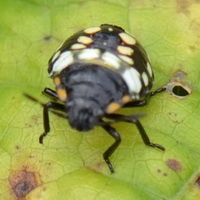insect: (24, 24, 169, 172)
